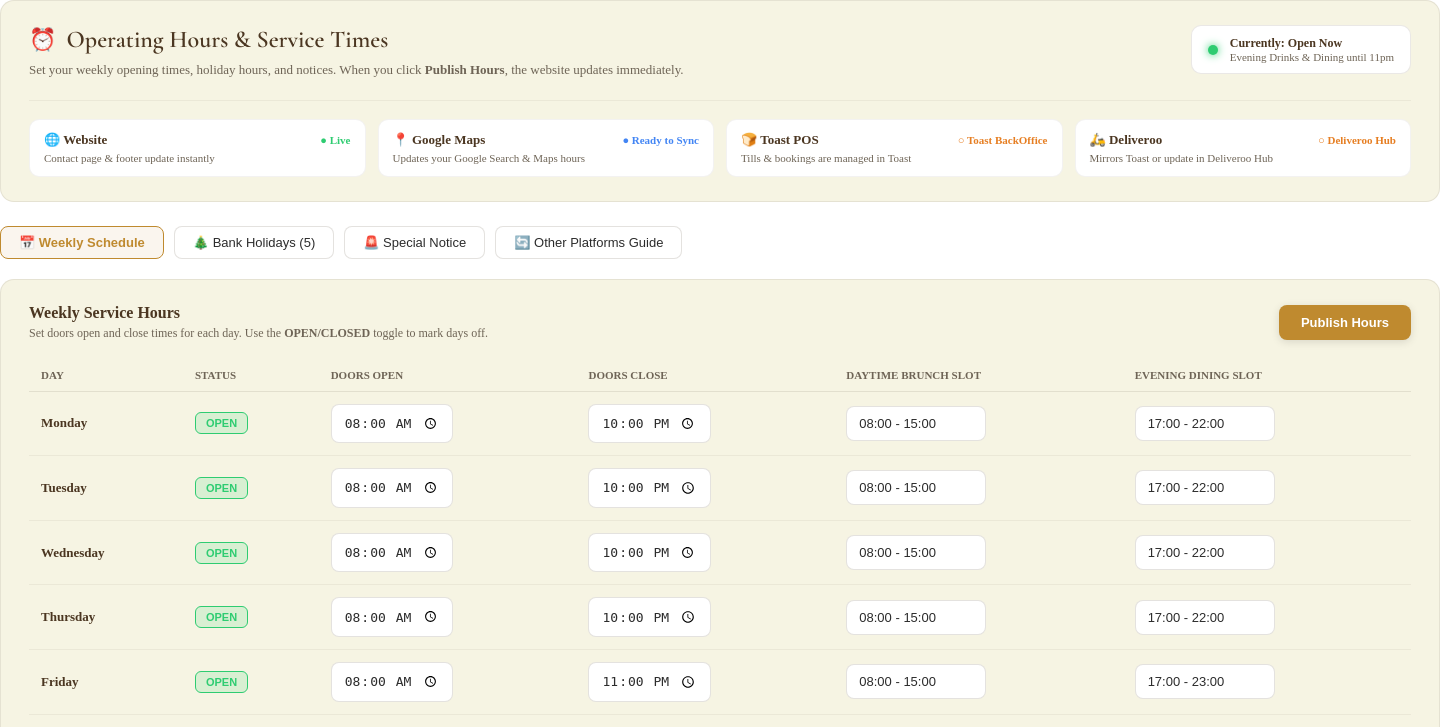
FEATURE-83: Omnichannel Operating Hours & Holiday Schedule Sync › 3. Bank Holidays & Special Overrides: adds and removes holiday exceptions
This screenshot has width=1440, height=727.
Switch to Holidays sub-tab
Click the button "🎄 Bank Holidays (5)". click: (254, 242)
box: [174,226,334,258]
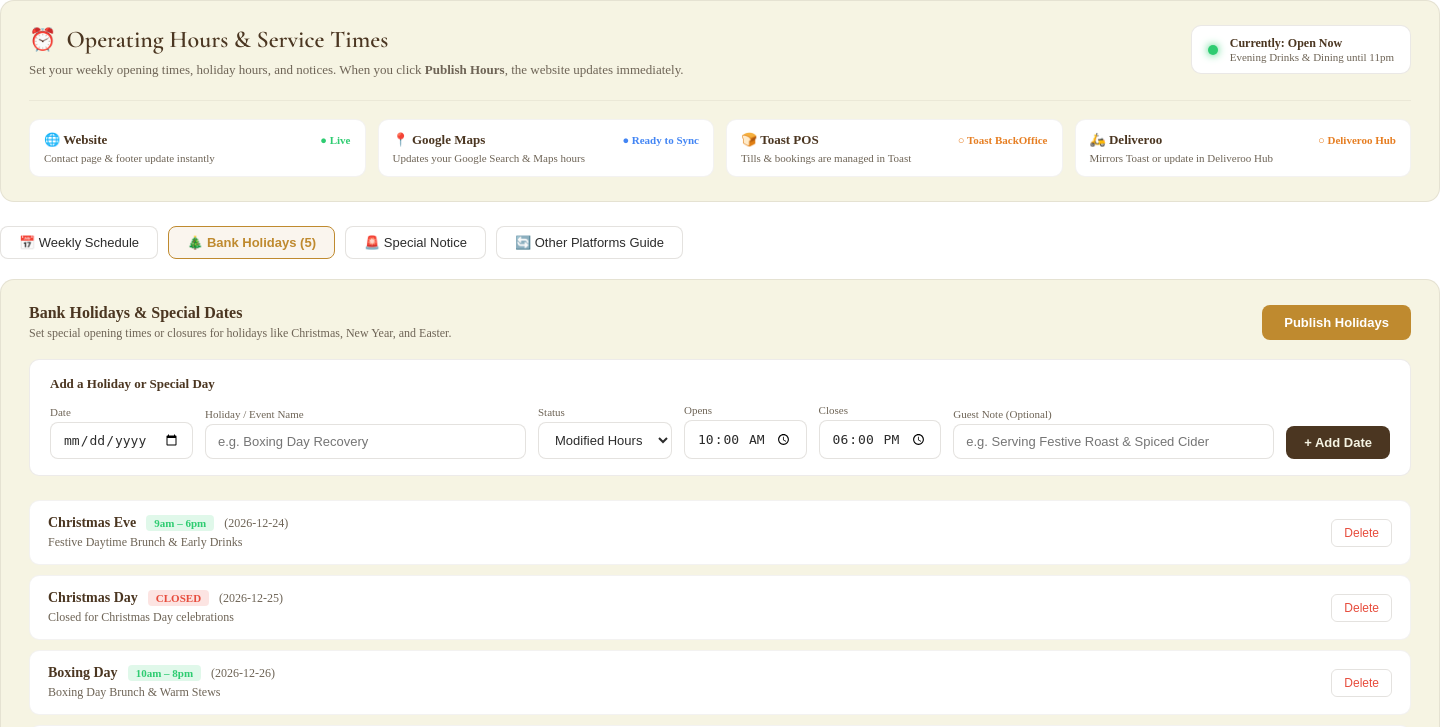
expect the text "Christmas Eve" is shown: met, box [48,515,136,531]
expect the text "Christmas Day" is shown: met, box [48,590,138,606]
Add a new custom holiday
Type "Staff Appreciation Day" into the field with placeholder "e.g. Boxing Day Recovery". click: (366, 442)
box: [205,424,526,459]
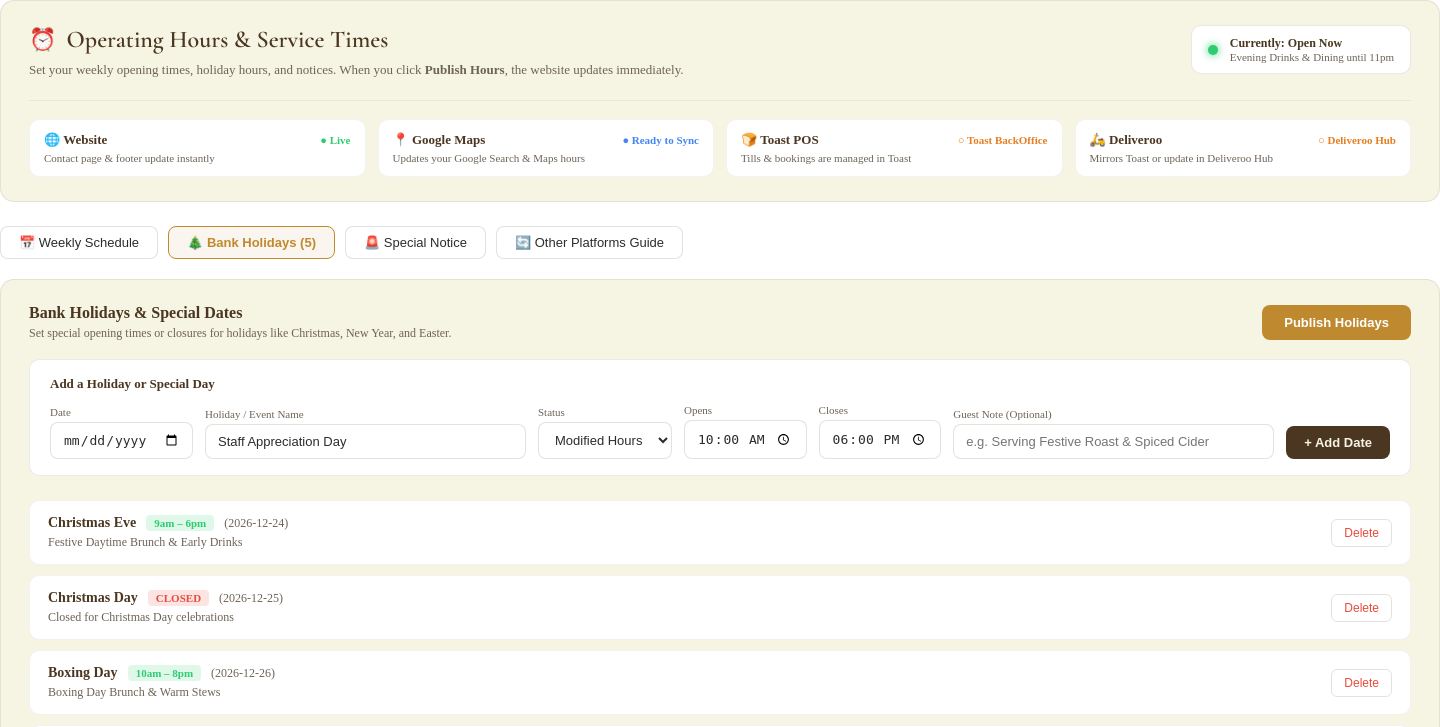
Click the button "+ Add Date". click: (1338, 443)
box: [1286,426,1390,459]
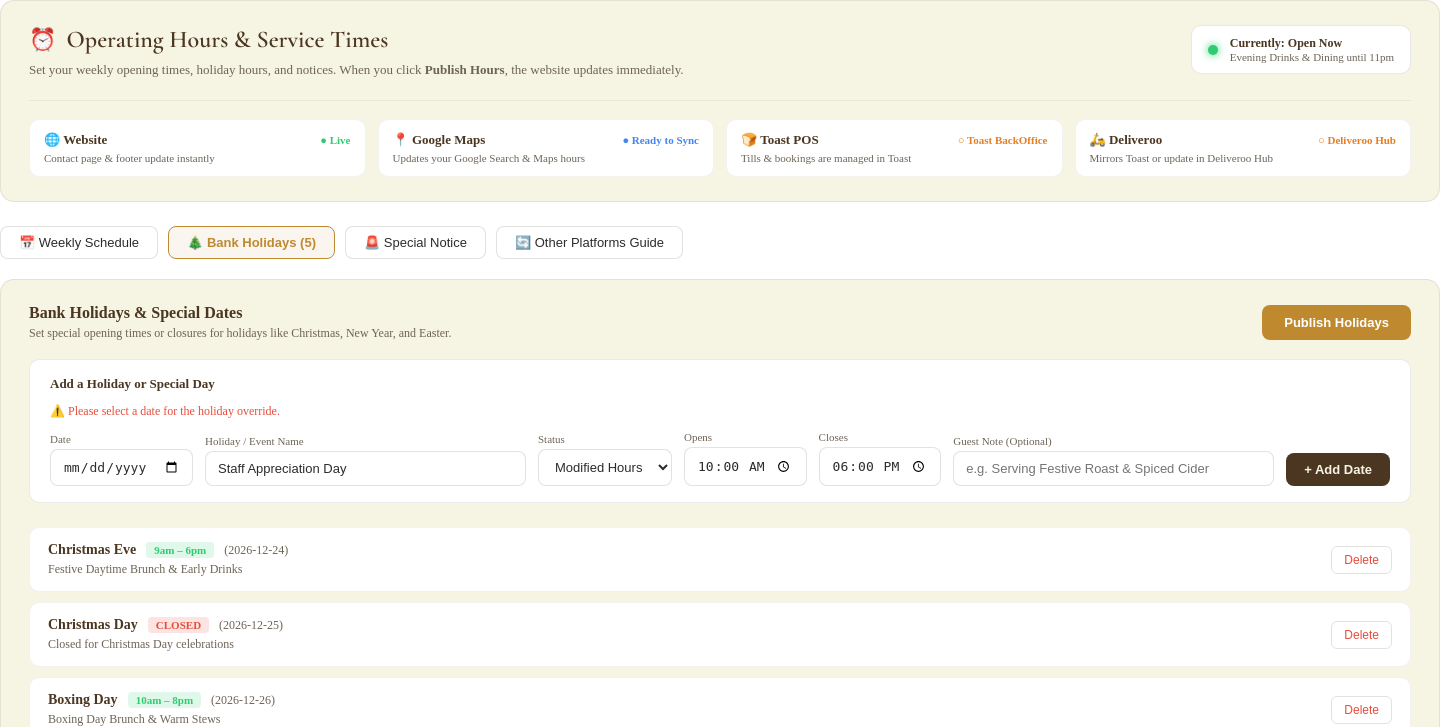
expect the text "⚠️ Please select a date for the holiday override." is shown: met, box [50,404,280,418]
